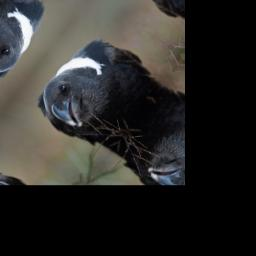Crow: (26, 26, 167, 159)
